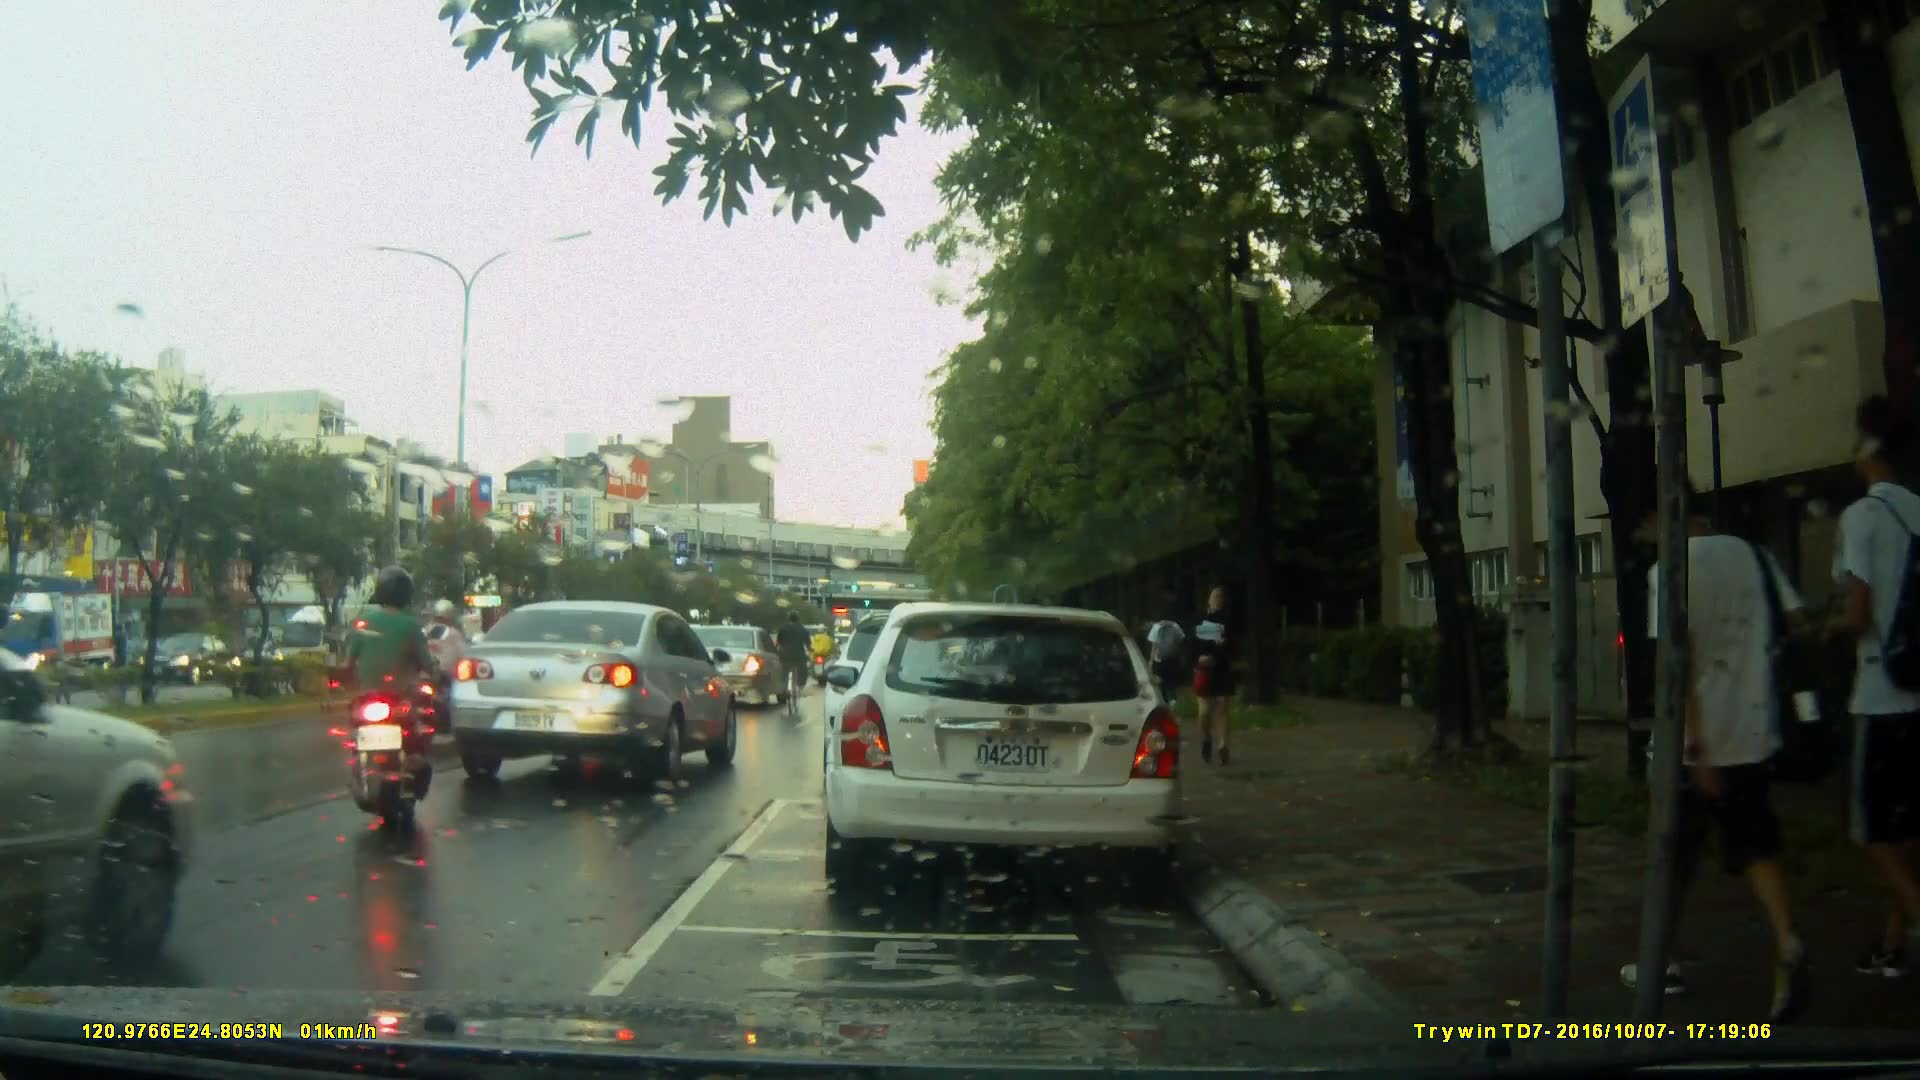pedestrian: (1609, 432, 1772, 1004), (1789, 415, 1887, 970), (1173, 582, 1235, 768), (1145, 604, 1193, 732)
rider: (338, 568, 434, 847), (395, 590, 483, 747), (774, 612, 807, 723), (810, 618, 834, 691)
vehicle: (820, 602, 1188, 898), (1, 553, 203, 985), (444, 596, 741, 790), (1, 587, 127, 699), (657, 624, 792, 711)
